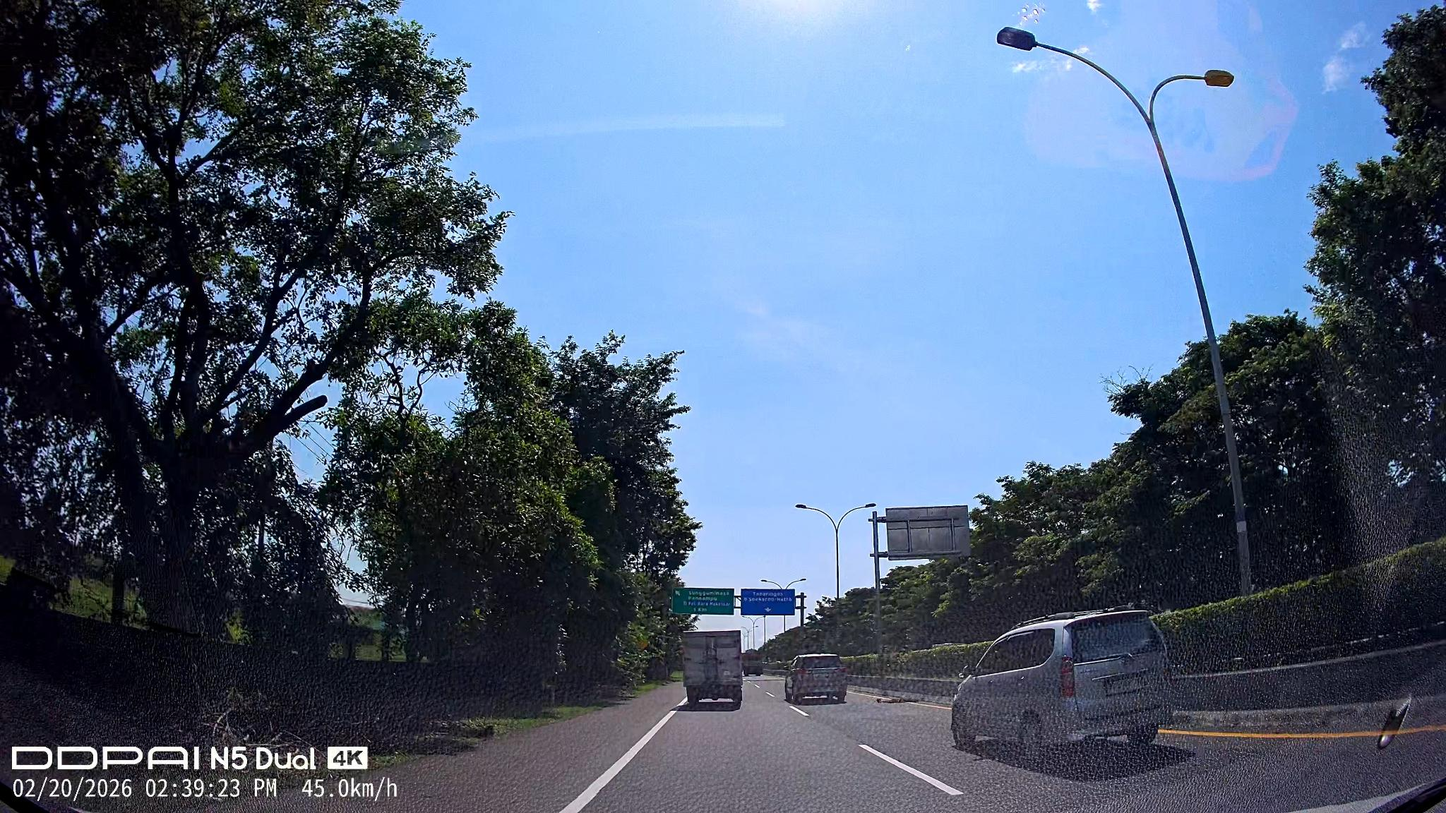rambu_teks: (671, 587, 735, 616), (740, 588, 796, 616)
